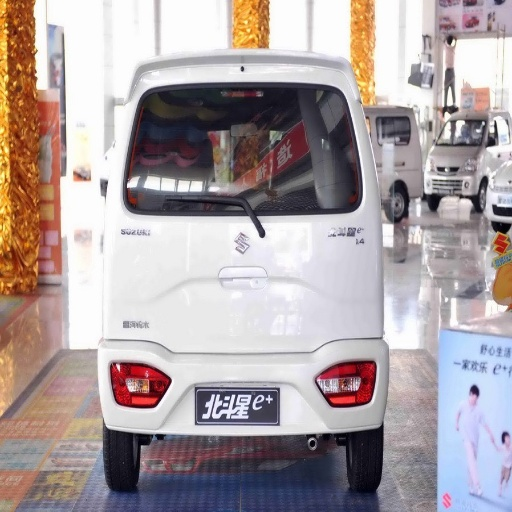back_bumper: (97, 340, 391, 433)
trunk: (105, 176, 370, 395)
